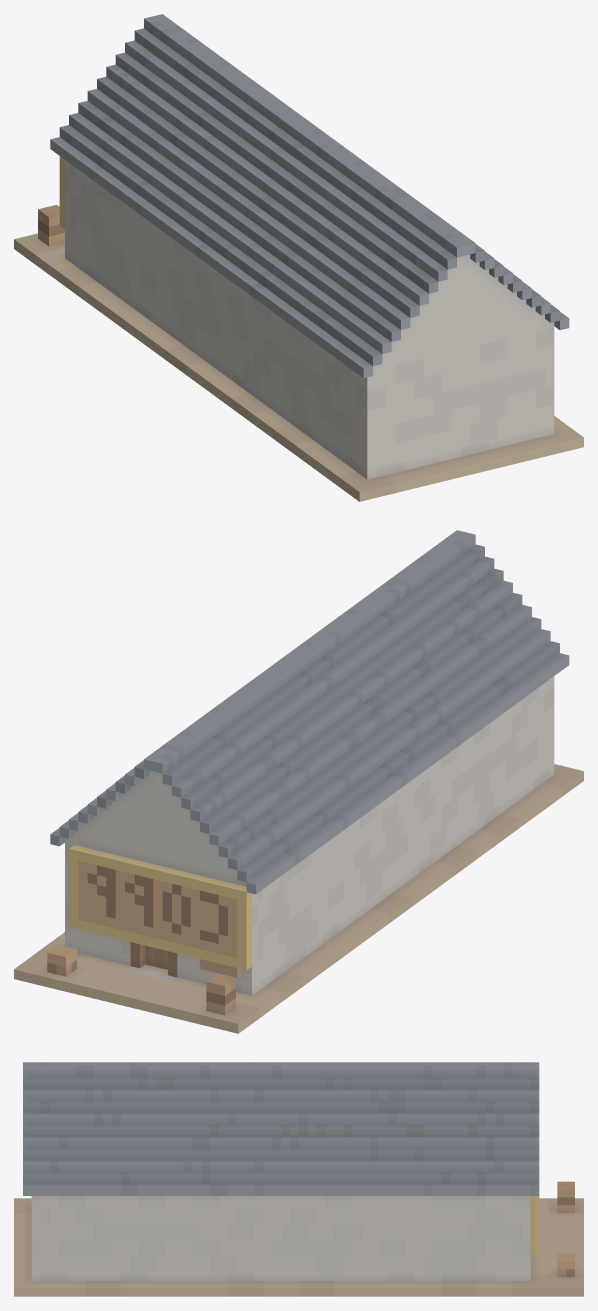
Rendered from copper_mine.glb.
3 views of the same model, one above another, from view 1: azimuth 30°, elevation 25°; view 2: azimuth 150°, elevation 25°; view 3: azimuth 270°, elevation 25° (orthographic). The views are drawn at different scales.
Visible parts, largest first — view 1: copper_mine; view 2: copper_mine; view 3: copper_mine.
Part boxes in pixels (x1,y1,x2,y2): copper_mine: (14,14,583,501); copper_mine: (14,530,583,1033); copper_mine: (14,1062,583,1296).
Size of the model in its own units: 3 by 2.88 by 8.
